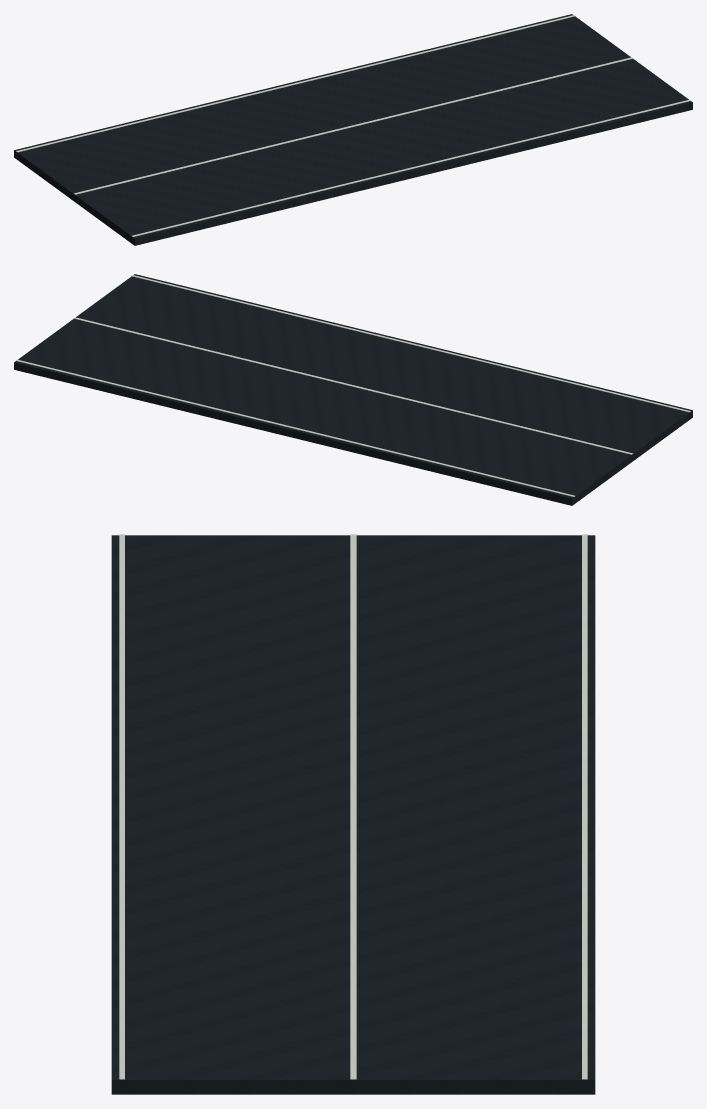
The model's file is Transit_Road_2L_Straight_16m.glb.
3 renders of one model, top to bottom at view 1: azimuth 30°, elevation 25°; view 2: azimuth 150°, elevation 25°; view 3: azimuth 270°, elevation 25°, orthographic. The views are drawn at different scales.
Parts seen in each view (by area): view 1: Transit_Road_2L_Straight_16m_Surface, Transit_Road_2L_Straight_16m_MarkLane1, Transit_Road_2L_Straight_16m_MarkEdge-1, Transit_Road_2L_Straight_16m_MarkEdge+1; view 2: Transit_Road_2L_Straight_16m_Surface, Transit_Road_2L_Straight_16m_MarkLane1, Transit_Road_2L_Straight_16m_MarkEdge-1, Transit_Road_2L_Straight_16m_MarkEdge+1; view 3: Transit_Road_2L_Straight_16m_Surface, Transit_Road_2L_Straight_16m_MarkLane1, Transit_Road_2L_Straight_16m_MarkEdge-1, Transit_Road_2L_Straight_16m_MarkEdge+1.
Part boxes in pixels (x1,y1,x2,y2): Transit_Road_2L_Straight_16m_Surface: (14,14,692,245); Transit_Road_2L_Straight_16m_MarkLane1: (73,57,632,194); Transit_Road_2L_Straight_16m_MarkEdge-1: (132,99,690,236); Transit_Road_2L_Straight_16m_MarkEdge+1: (16,15,574,152); Transit_Road_2L_Straight_16m_Surface: (14,274,692,505); Transit_Road_2L_Straight_16m_MarkLane1: (74,317,633,454); Transit_Road_2L_Straight_16m_MarkEdge-1: (132,275,690,412); Transit_Road_2L_Straight_16m_MarkEdge+1: (16,359,574,496); Transit_Road_2L_Straight_16m_Surface: (111,535,595,1094); Transit_Road_2L_Straight_16m_MarkLane1: (350,534,356,1079); Transit_Road_2L_Straight_16m_MarkEdge-1: (119,534,124,1079); Transit_Road_2L_Straight_16m_MarkEdge+1: (582,534,587,1079).
Size of the model in its own units: 16 by 0.212 by 6.
Materials: 2 (1 with a texture image).
